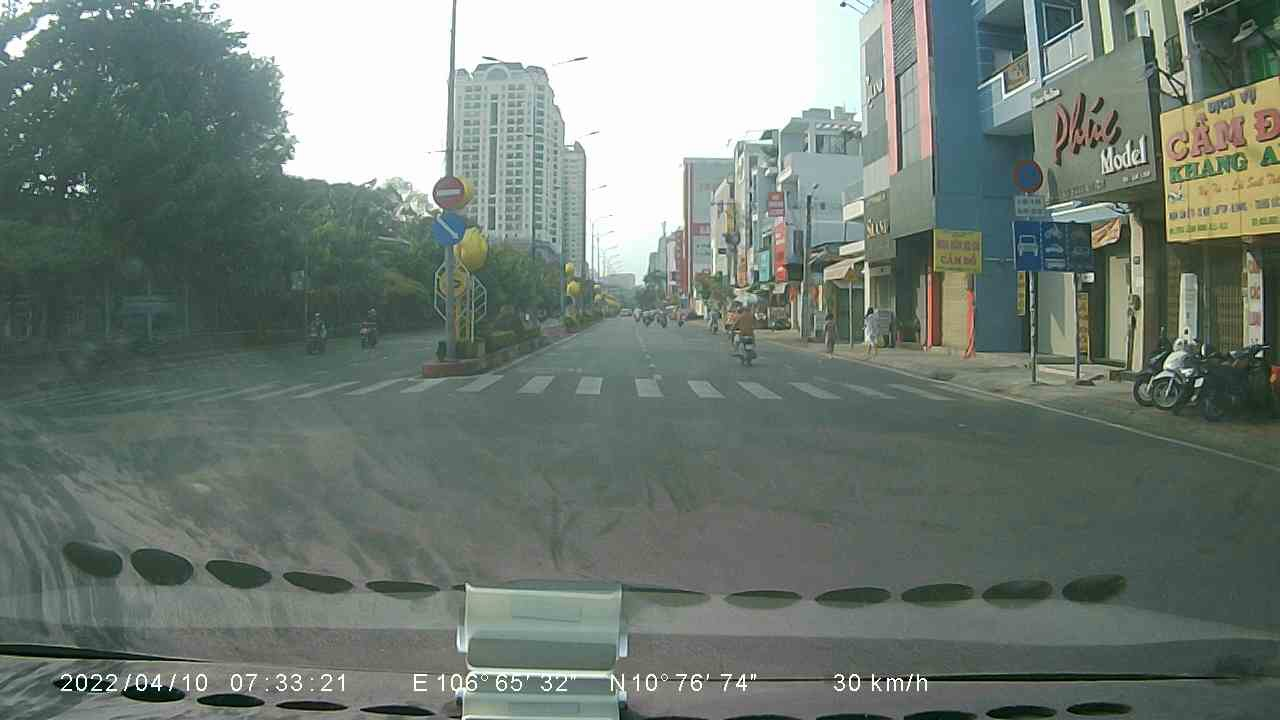Cam di nguoc chieu: (431, 173, 467, 210)
Cam do xe: (1009, 159, 1045, 191)
Huong di phai re phai: (430, 209, 467, 249)
